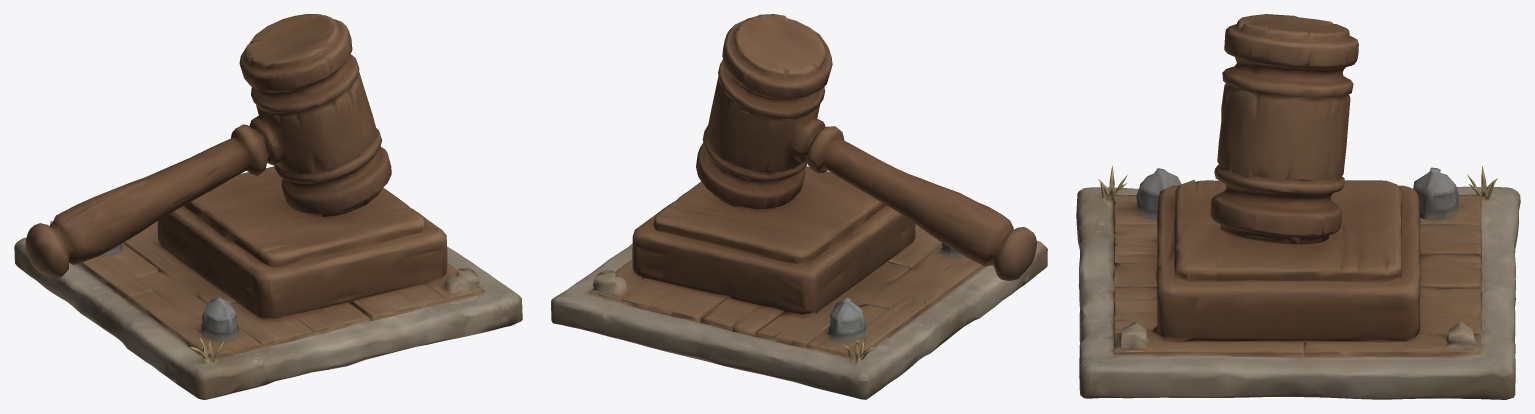
Rendered from panel_gavel.glb.
3 views of the same model, side by side, from view 1: azimuth 30°, elevation 25°; view 2: azimuth 150°, elevation 25°; view 3: azimuth 270°, elevation 25° (orthographic). The views are drawn at different scales.
Visible parts, largest first — view 1: tripo_node_d002414c-4b34-4f85-a93d-c61f9caaabe5; view 2: tripo_node_d002414c-4b34-4f85-a93d-c61f9caaabe5; view 3: tripo_node_d002414c-4b34-4f85-a93d-c61f9caaabe5.
Part boxes in pixels (<box>): tripo_node_d002414c-4b34-4f85-a93d-c61f9caaabe5: <box>14,14,522,399</box>; tripo_node_d002414c-4b34-4f85-a93d-c61f9caaabe5: <box>551,14,1047,399</box>; tripo_node_d002414c-4b34-4f85-a93d-c61f9caaabe5: <box>1076,14,1520,399</box>.
Size of the model in its own units: 1 by 0.6285 by 0.818.
Materials: 1 (1 with a texture image).
